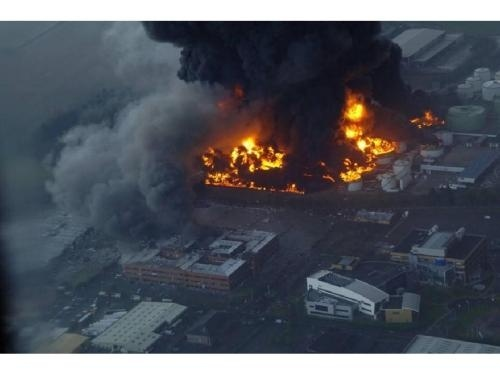fire: (204, 87, 411, 195), (201, 131, 289, 192)
